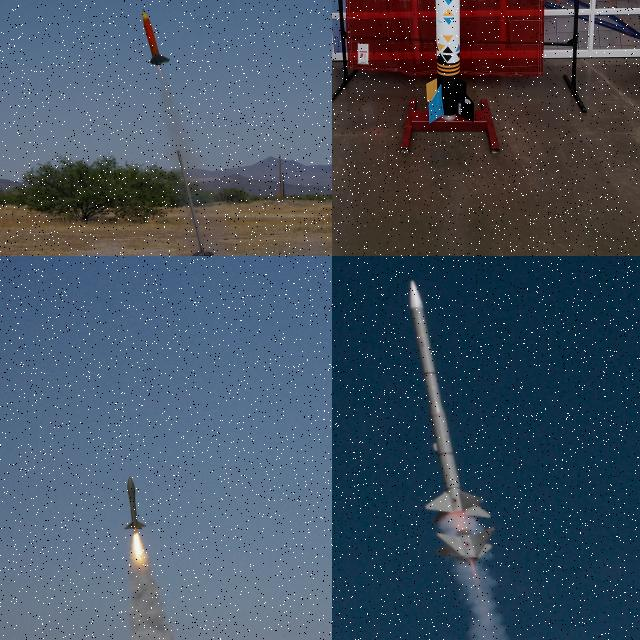Rocket: (404, 278, 498, 567), (426, 0, 474, 124), (142, 8, 171, 66), (124, 475, 147, 530)
